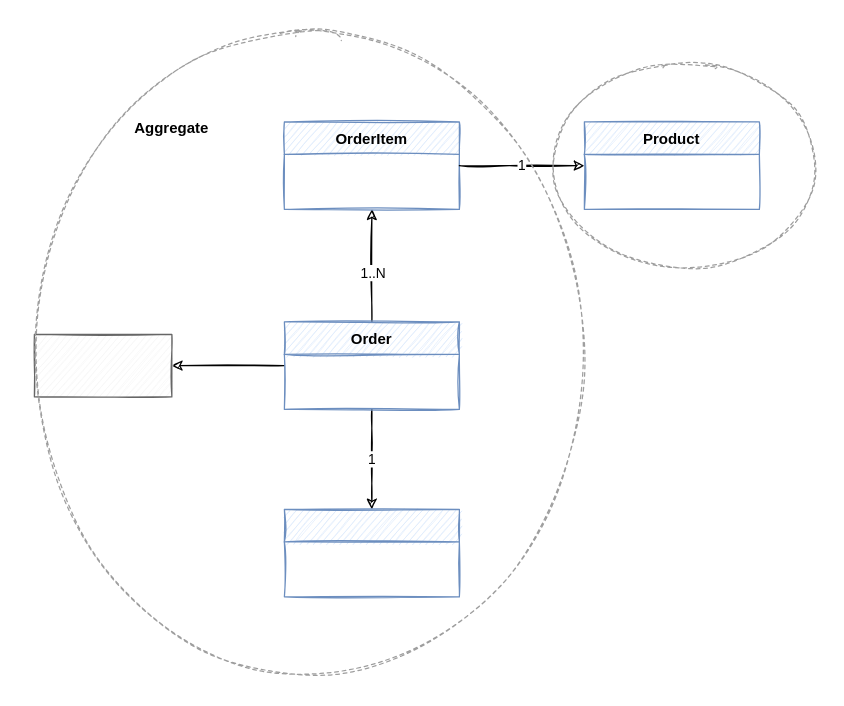
Some shapes in this 844 by 706 pixel diagram are drawn without their labels. The centre of each missing label's shape, as x and y in pixels:
"Customer" goes at pixel 371 552.
"«enum» OrderStatus" goes at pixel 102 365.
